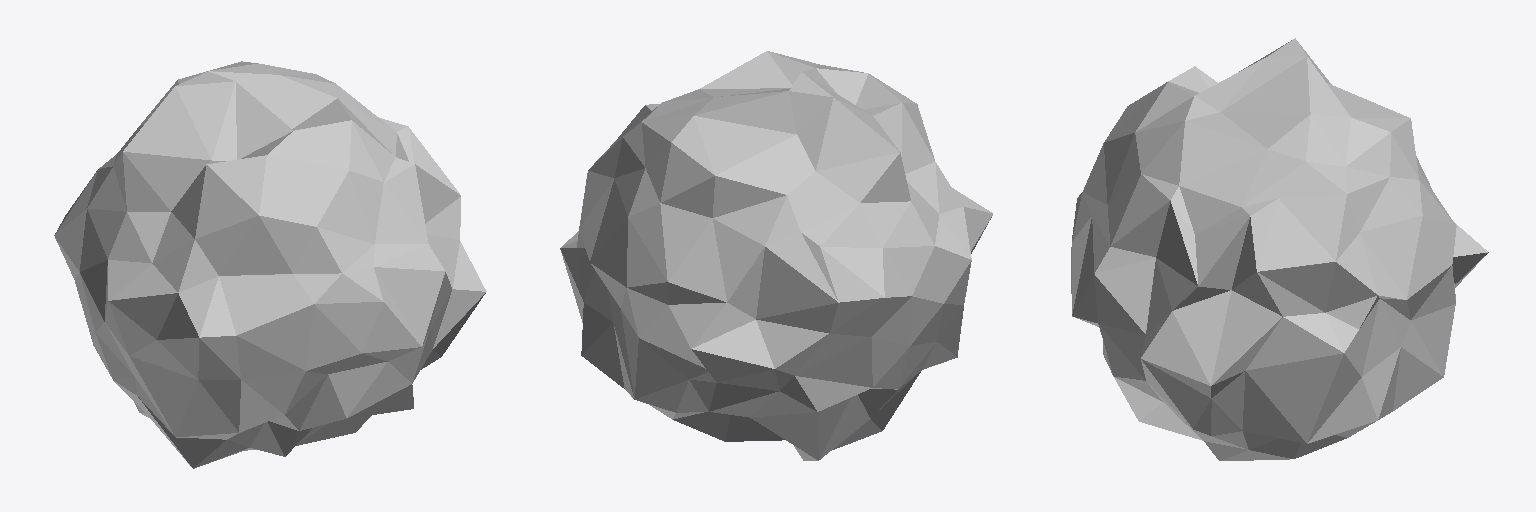
The model's file is fire_000028.obj.
3 views of the same model, side by side, from view 1: azimuth 30°, elevation 25°; view 2: azimuth 150°, elevation 25°; view 3: azimuth 270°, elevation 25° (orthographic).
Visible parts, largest first — view 1: Icosphere; view 2: Icosphere; view 3: Icosphere.
Boxes of the visible parts, x1,y1,x2,y2 form: Icosphere: [54, 61, 486, 468]; Icosphere: [560, 51, 992, 460]; Icosphere: [1071, 38, 1488, 460].
Bounding box in the file's own units: 1.36 × 1.37 × 1.4.